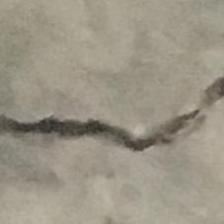Crack: (0, 77, 224, 169)
